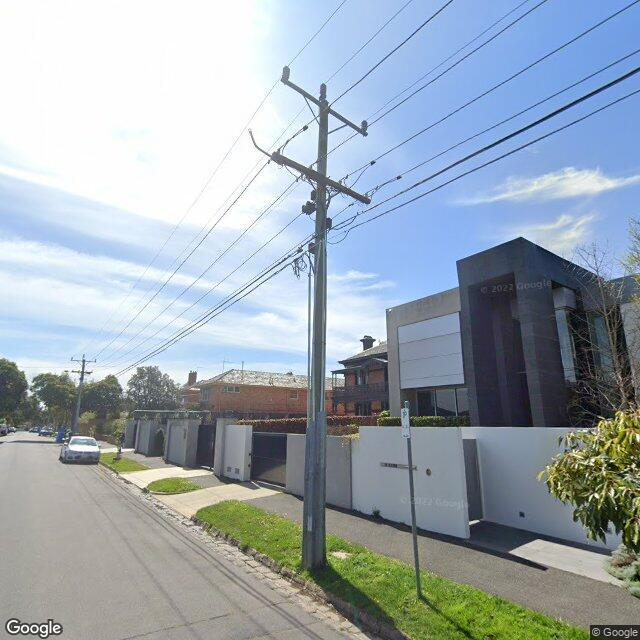HV-transmission: (281, 66, 368, 136), (70, 353, 97, 362)
crossarm: (267, 126, 403, 204), (282, 77, 368, 136), (71, 369, 93, 374), (73, 360, 95, 362)
timber-pole: (302, 100, 330, 570), (73, 359, 86, 432)
